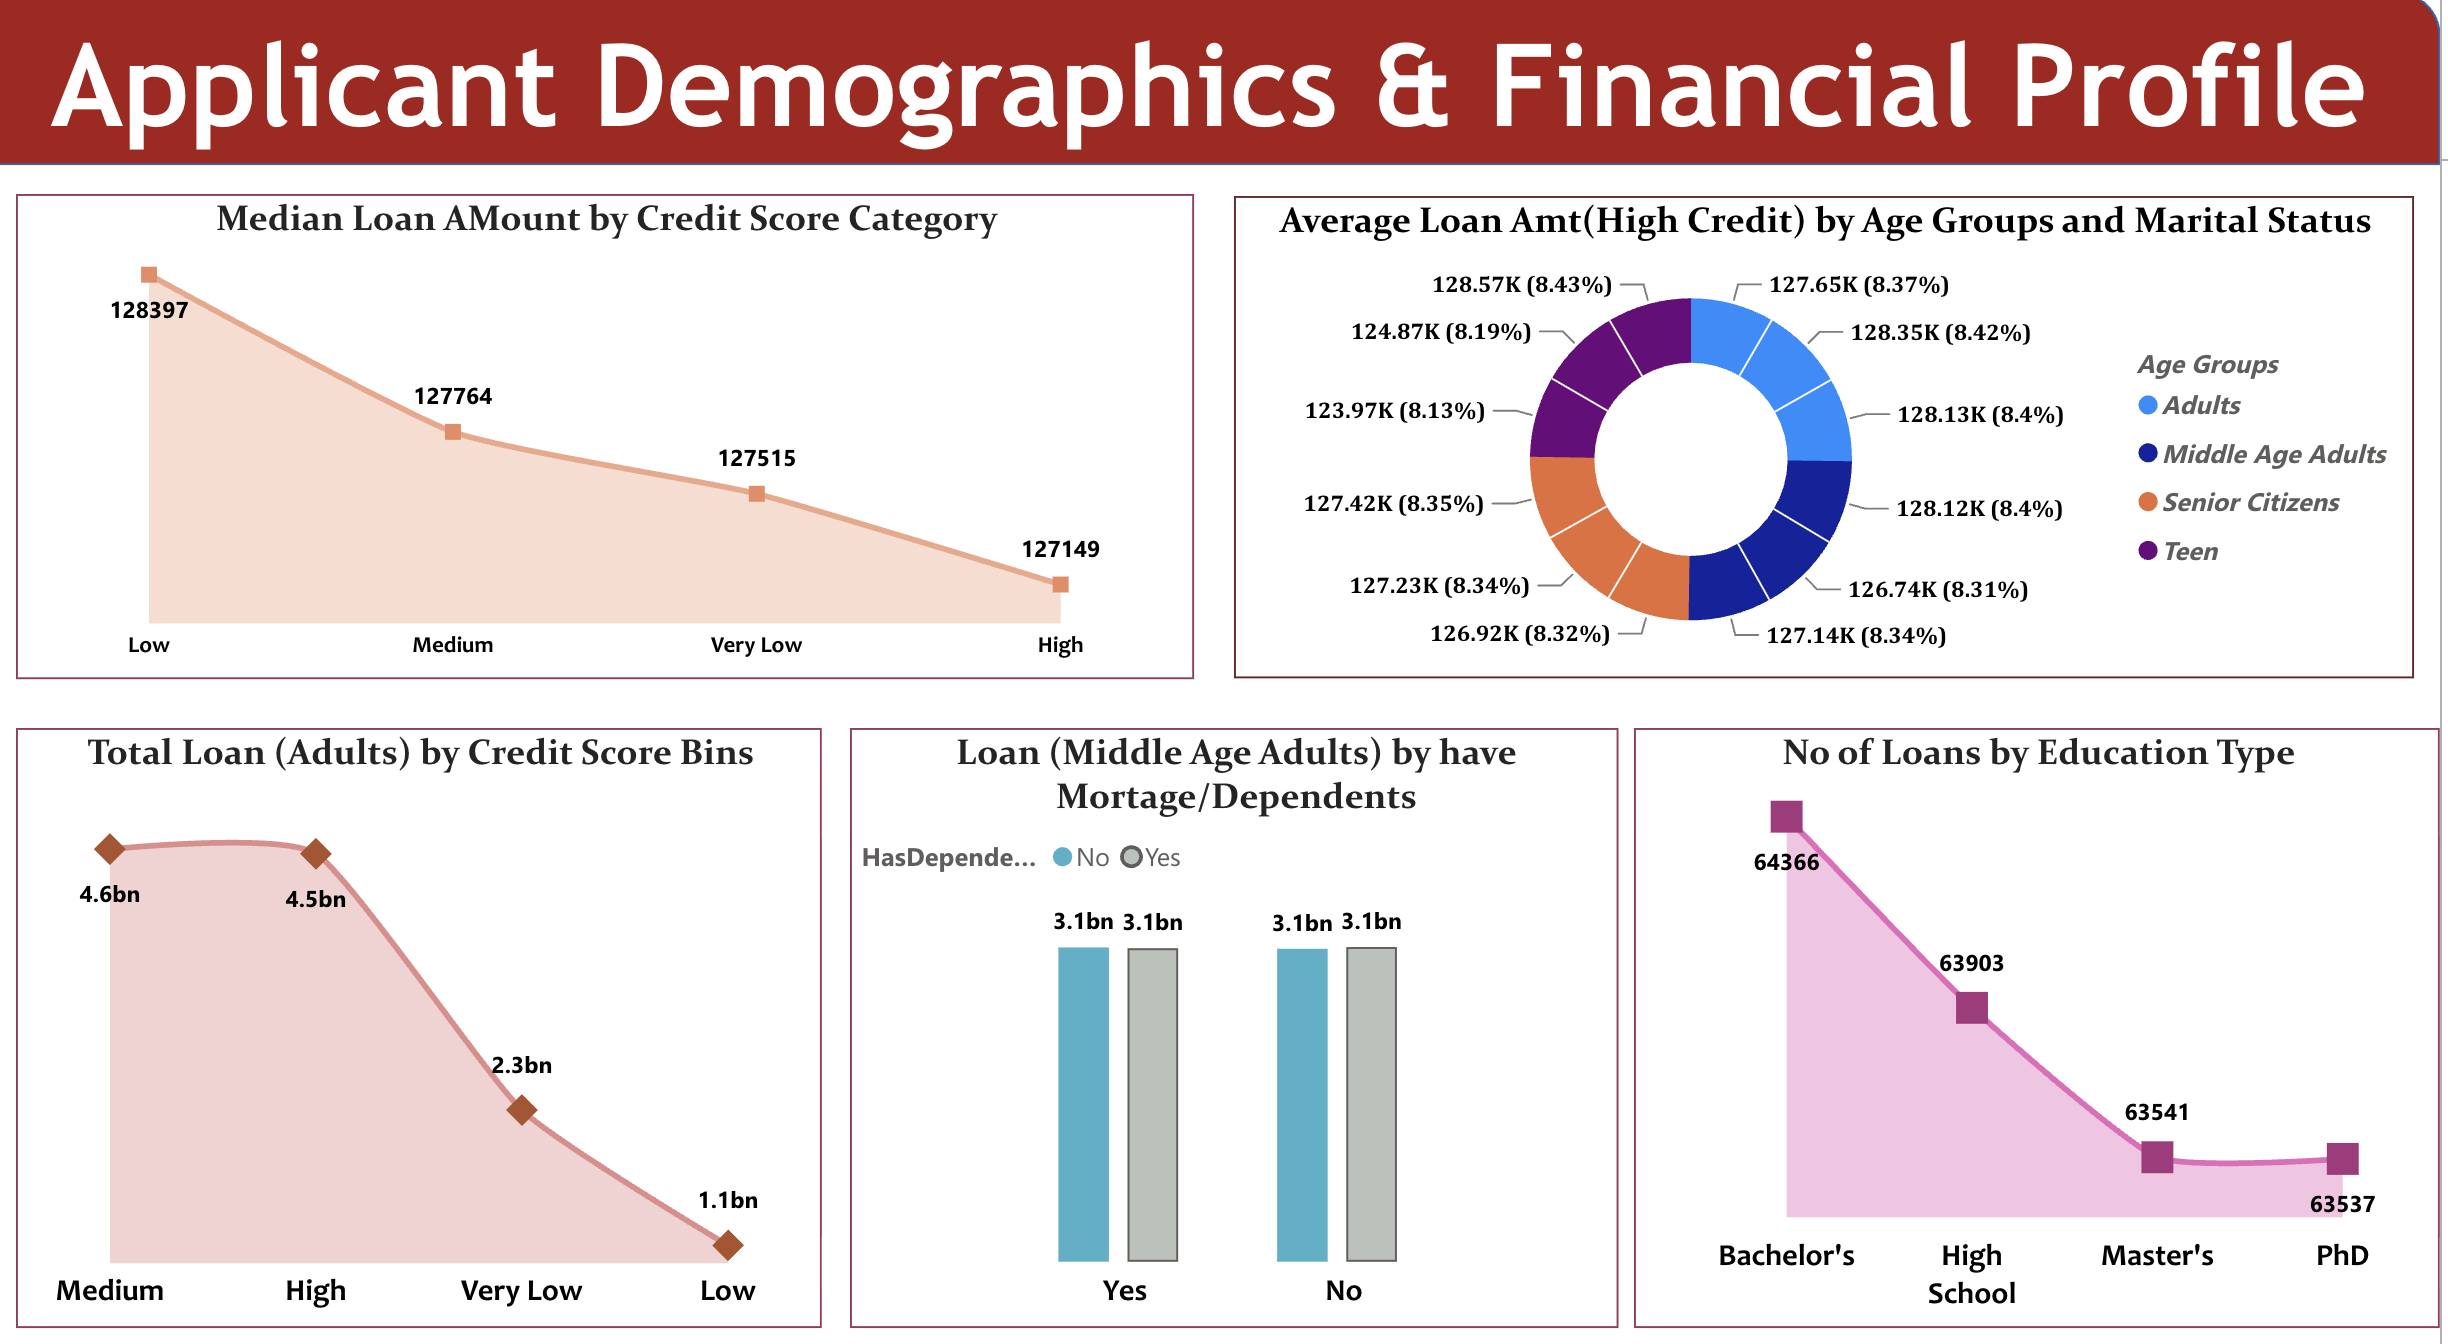

The dashboard page shown, as its layout file describes it:
{"tool":"powerbi","page":{"name":"Applicant Demographics & Financial Profile","canvas":[1280,720],"ordinal":1},"visuals":[{"type":"shape","box":[0,0,1280.3,90.6],"z":0},{"type":"lineChart","title":"Median Loan AMount by Credit Score Category","fields":{"Y":["Measures Table 2.Median by Credit Score Bins"],"Category":["Loan_default.Credit Score Bins"]},"box":[13.3,105.9,615.3,253.3],"z":1000},{"type":"donutChart","title":"Average Loan Amt(High Credit) by Age Groups and Marital Status","fields":{"Y":["Measures Table 2.Average Loan Amt(High Credit)"],"Series":["Loan_default.MaritalStatus"],"Category":["Loan_default.Age Groups"]},"box":[650.3,106.5,616.5,252.2],"z":2000},{"type":"lineChart","title":"Total Loan (Adults) by Credit Score Bins","fields":{"Category":["Loan_default.Credit Score Bins"],"Y":["Measures Table 2.Total Loan (Credit Bins)"]},"box":[13.3,384.9,421.1,313.7],"z":3000},{"type":"clusteredColumnChart","title":"Loan (Middle Age Adults) by have Mortage/Dependents","fields":{"Y":["Measures Table 2.Total Loan (Middle Age Adults)"],"Category":["Loan_default.HasMortgage"],"Series":["Loan_default.HasDependents"]},"box":[448.8,384.9,401.7,313.7],"z":4000},{"type":"lineChart","title":"No of Loans by Education Type","fields":{"Y":["Measures Table 2.Loans by Education type"],"Category":["Loan_default.Education"]},"box":[859,384.9,421.1,313.7],"z":5000}]}

Visuals, with their boxes in screenshot pixels (x1, y1, x2, y2), scaled from the page's 1280x720 canvas onto the 2448x1344 screenshot:
shape: bbox=(0, 0, 2447, 169)
"Median Loan AMount by Credit Score Category" lineChart: bbox=(25, 198, 1202, 671)
"Average Loan Amt(High Credit) by Age Groups and Marital Status" donutChart: bbox=(1244, 199, 2423, 670)
"Total Loan (Adults) by Credit Score Bins" lineChart: bbox=(25, 718, 831, 1304)
"Loan (Middle Age Adults) by have Mortage/Dependents" clusteredColumnChart: bbox=(858, 718, 1627, 1304)
"No of Loans by Education Type" lineChart: bbox=(1643, 718, 2447, 1304)
